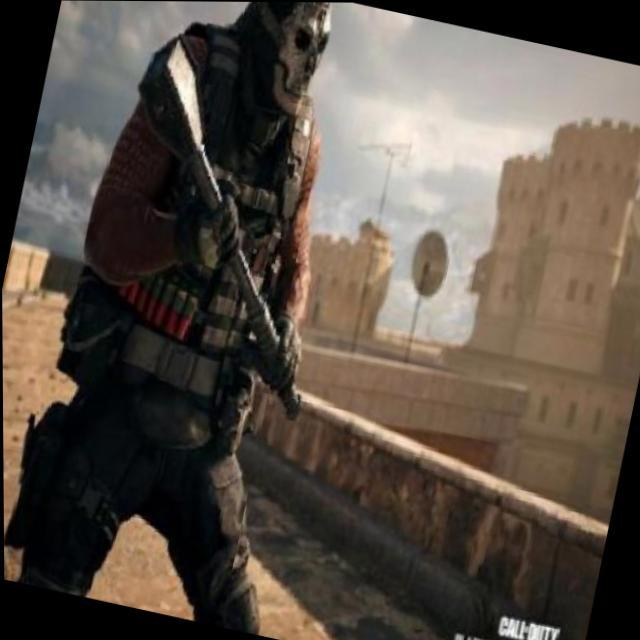weapon: (0, 0, 398, 636), (73, 27, 371, 422)
